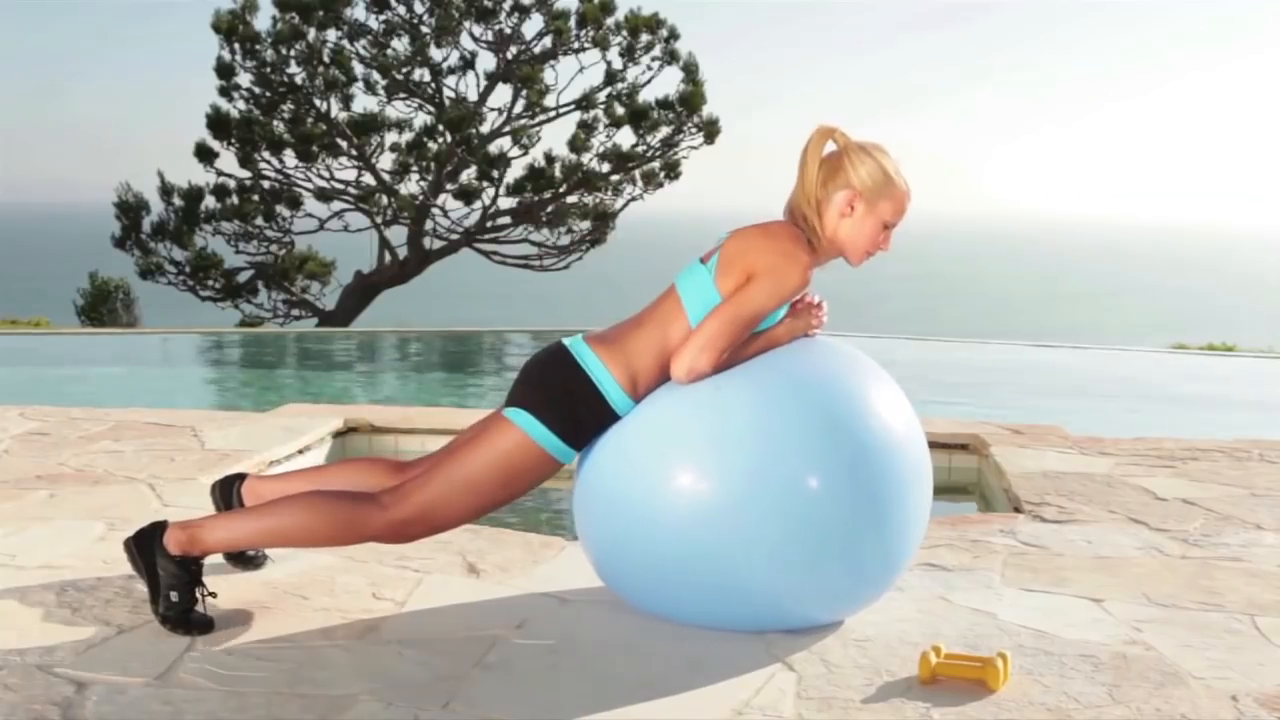yogaball: (566, 330, 944, 641)
